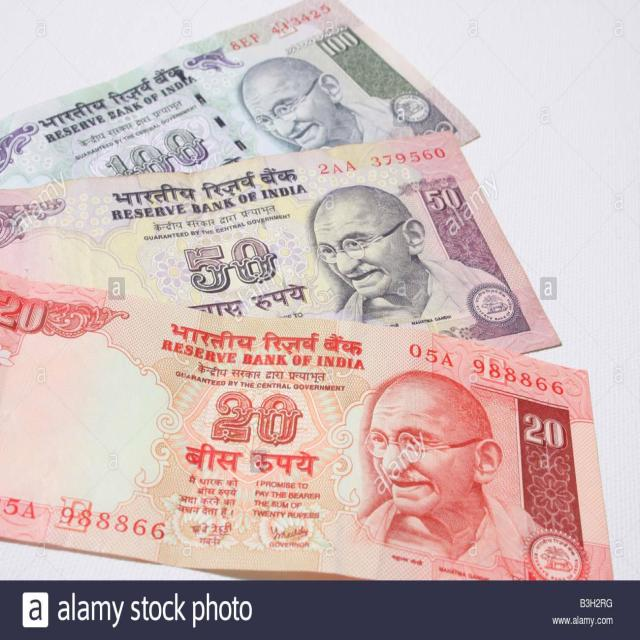50IndianRupees: (0, 128, 556, 380)
